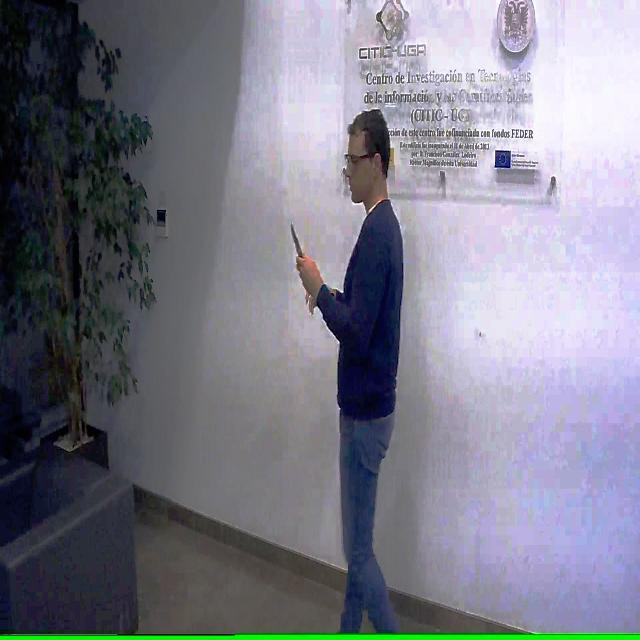Knife: (281, 216, 316, 282)
